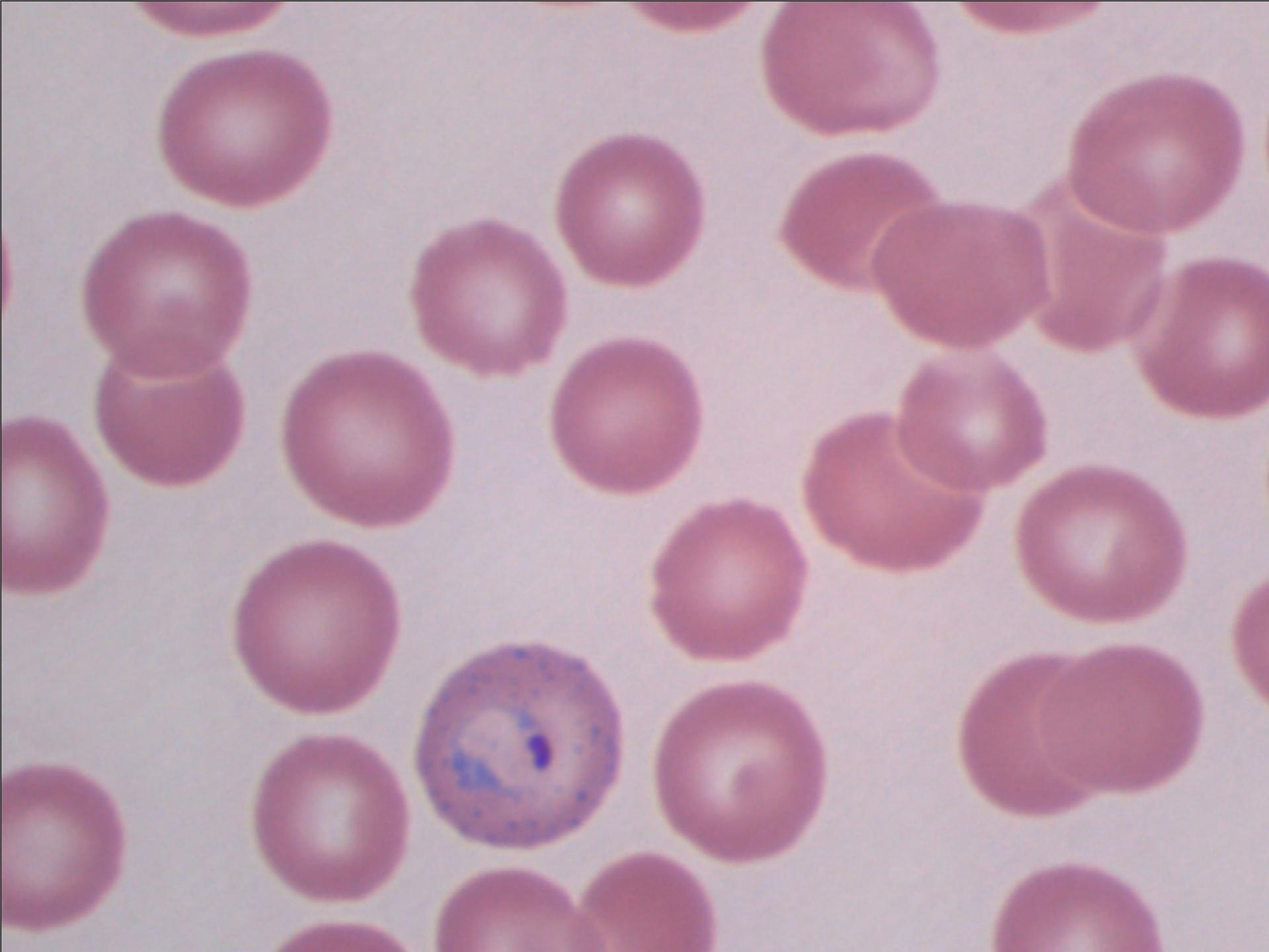Infected: (648, 100, 851, 304)
Uninfected: (441, 91, 617, 269), (867, 240, 1031, 407), (819, 427, 983, 593), (1020, 572, 1182, 737), (26, 719, 196, 873), (293, 380, 463, 534), (82, 327, 249, 482), (220, 604, 395, 748), (71, 155, 241, 302), (939, 745, 1104, 896), (859, 51, 1014, 211), (332, 815, 506, 952), (462, 292, 613, 445), (567, 457, 715, 608), (566, 665, 711, 815), (104, 603, 240, 762), (707, 577, 853, 725), (221, 458, 371, 596), (177, 135, 307, 292), (1147, 18, 1267, 178), (0, 536, 124, 686), (345, 664, 486, 795), (1161, 358, 1268, 523), (1027, 464, 1168, 589), (110, 1, 267, 81), (561, 1, 681, 95), (687, 2, 827, 81)
